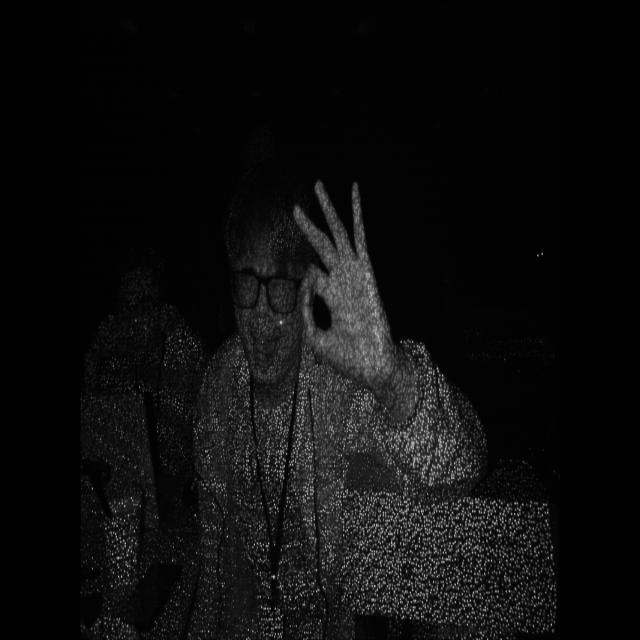F: (282, 159, 402, 392)
